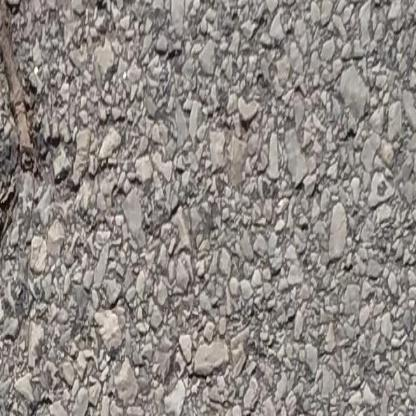Cracks: (0, 0, 61, 416)
